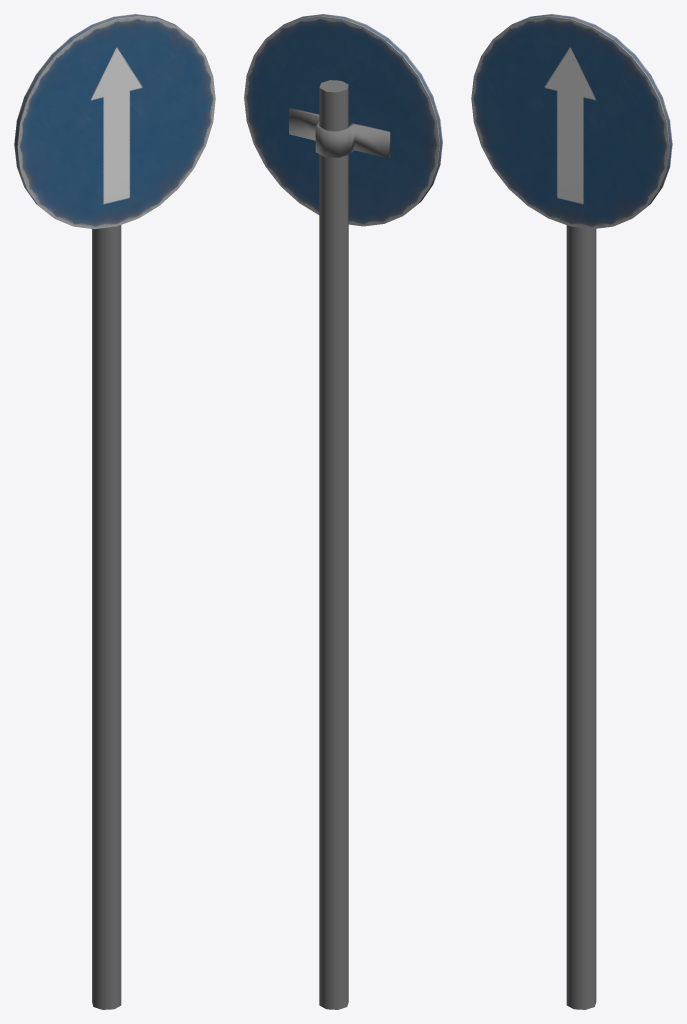
The model's file is SM_sign_traffic_001.fbx.
3 renders of one model, left to right at view 1: azimuth 30°, elevation 25°; view 2: azimuth 150°, elevation 25°; view 3: azimuth 330°, elevation 25°, orthographic.
Parts seen in each view (by area): view 1: Object32674; view 2: Object32674; view 3: Object32674.
Part boxes in pixels (x1,y1,x2,y2): Object32674: (14,14,215,1009); Object32674: (244,14,442,1009); Object32674: (471,14,672,1009).
Size of the model in its own units: 23.53 by 113 by 4.16.
